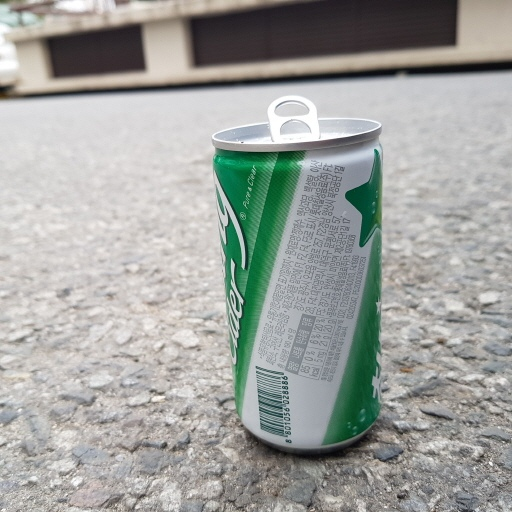Metal_0: (205, 92, 388, 455)
